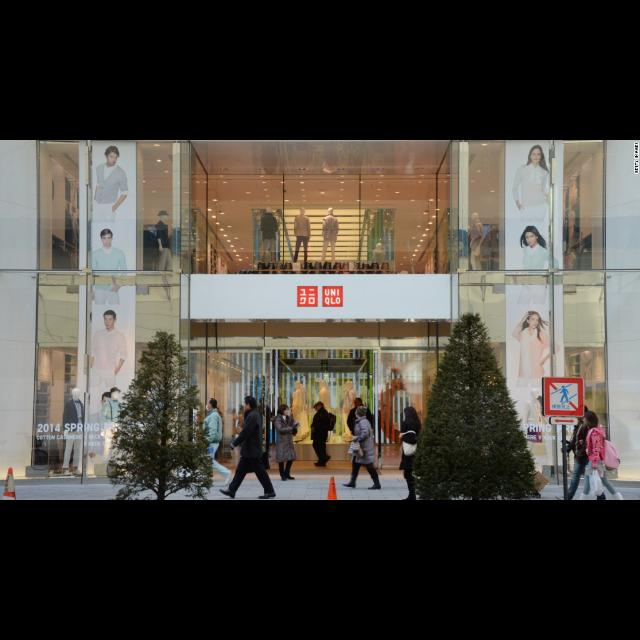head: (511, 310, 561, 432), (89, 144, 133, 260), (85, 309, 127, 425), (89, 228, 130, 339), (512, 144, 554, 246), (518, 225, 558, 327), (576, 406, 590, 422), (583, 412, 597, 426), (243, 397, 255, 413), (405, 406, 417, 420), (206, 398, 218, 412), (314, 402, 326, 413), (356, 407, 366, 419), (354, 399, 364, 409), (281, 406, 289, 416)
person: (511, 310, 561, 432), (89, 144, 133, 260), (85, 309, 127, 425), (89, 228, 130, 339), (512, 144, 554, 246), (188, 397, 234, 487), (518, 225, 558, 327), (342, 406, 382, 490), (272, 403, 302, 481), (310, 400, 338, 468), (348, 398, 377, 460)
